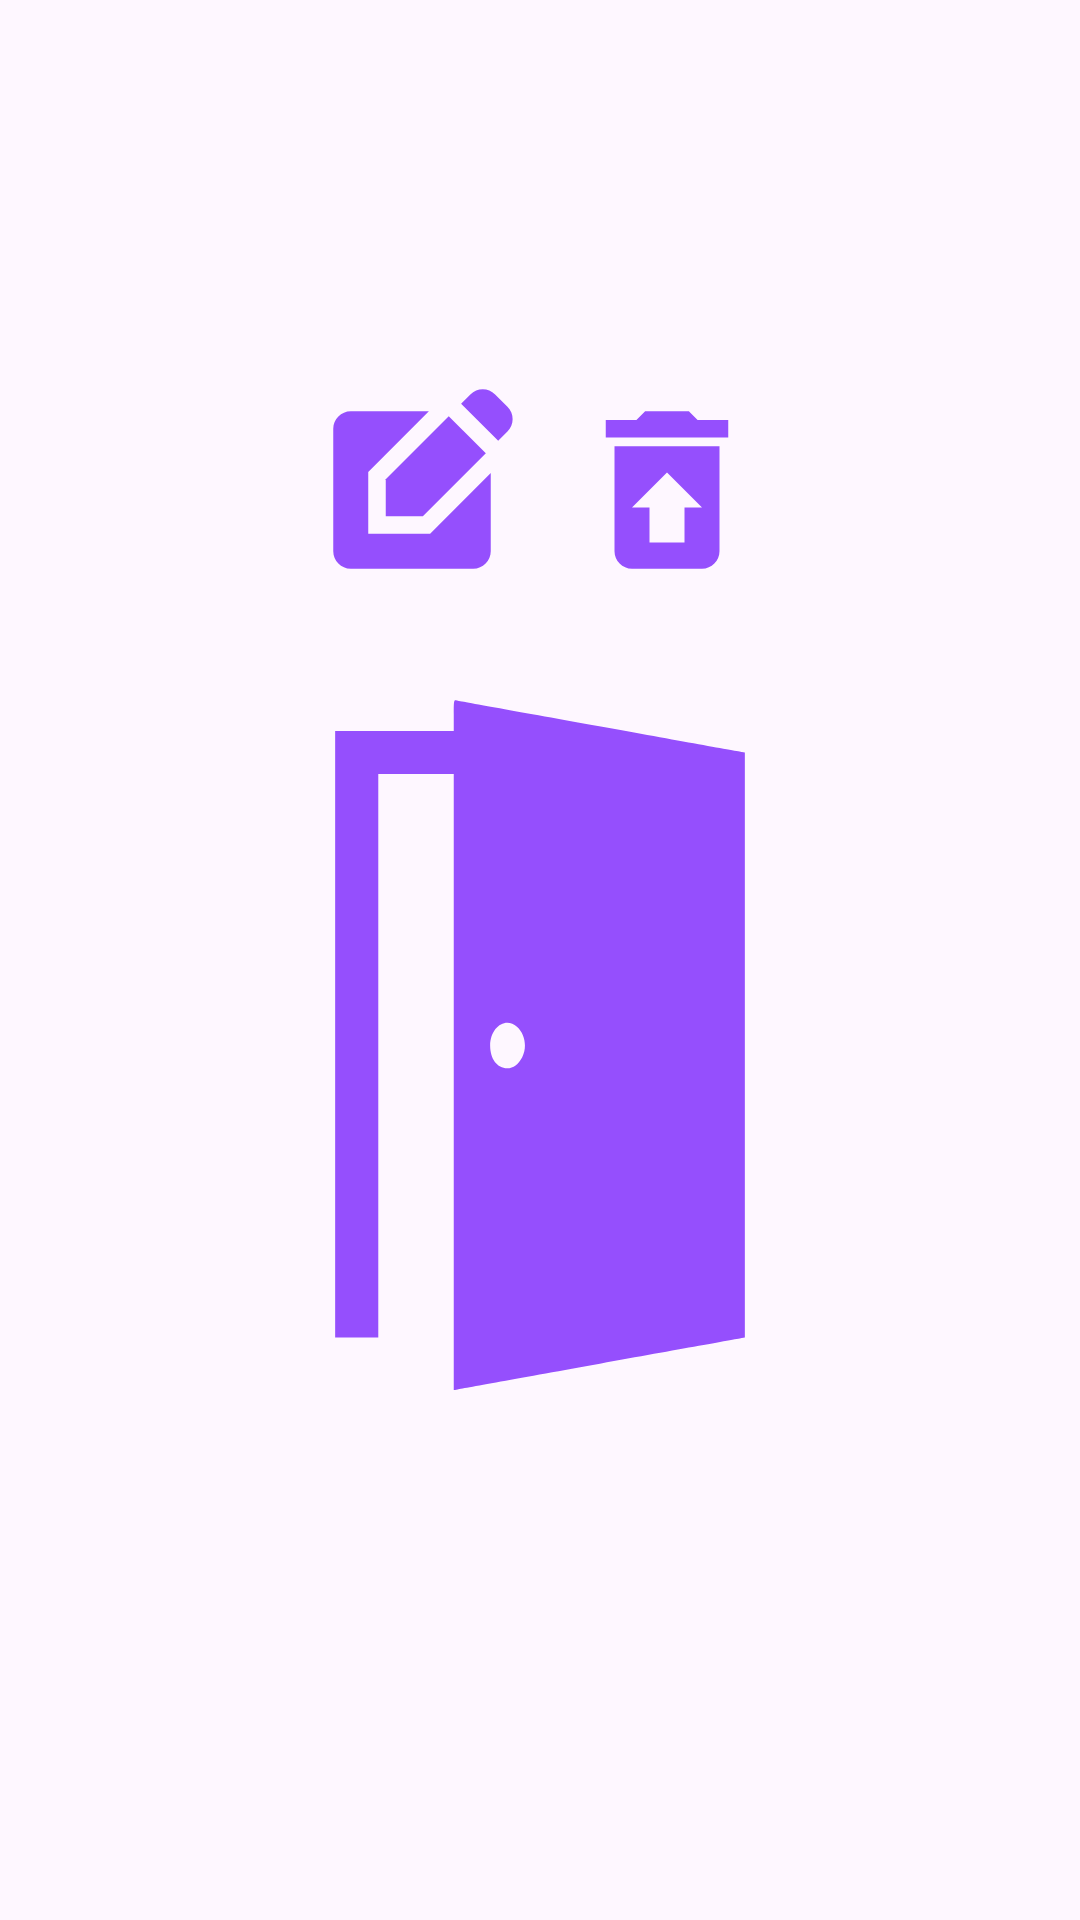

Named icons in this screenshot (1080px x 1920px) and their bounding boxes, (x1, y1, x2, y2):
edit: (333, 389, 513, 569)
trash: (605, 411, 729, 569)
